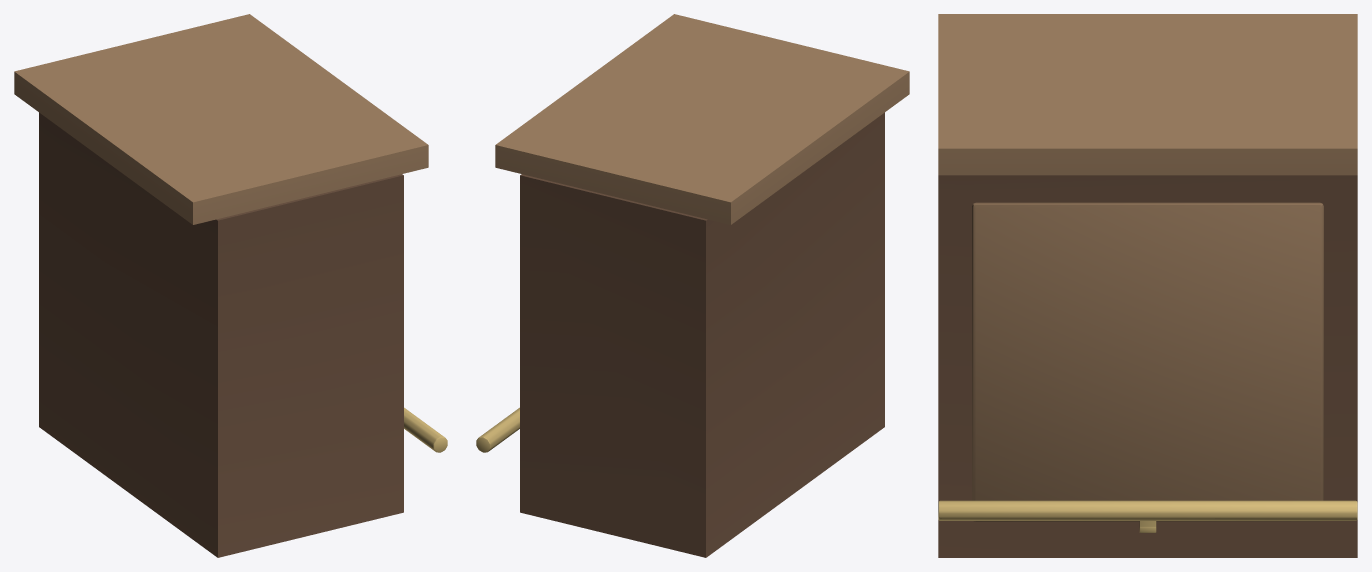
File: counter.glb
The picture shows the model from 3 angles, left to right: view 1: azimuth 30°, elevation 25°; view 2: azimuth 150°, elevation 25°; view 3: azimuth 270°, elevation 25°; orthographic projection. The views are drawn at different scales.
Visible parts, largest first — view 1: boat_darkwood, boat_oak, boat_brass2; view 2: boat_darkwood, boat_oak, boat_brass2; view 3: boat_oak, boat_darkwood, boat_brass2.
Boxes of the visible parts, <box> form: boat_darkwood: <box>39,112,403,557</box>; boat_oak: <box>14,14,428,224</box>; boat_brass2: <box>404,407,447,452</box>; boat_darkwood: <box>520,112,884,557</box>; boat_oak: <box>495,14,909,224</box>; boat_brass2: <box>476,407,519,452</box>; boat_oak: <box>938,14,1357,521</box>; boat_darkwood: <box>938,175,1357,557</box>; boat_brass2: <box>938,500,1357,532</box>.
Bounding box in the file's own units: 0.8238 × 1.12 × 1.
